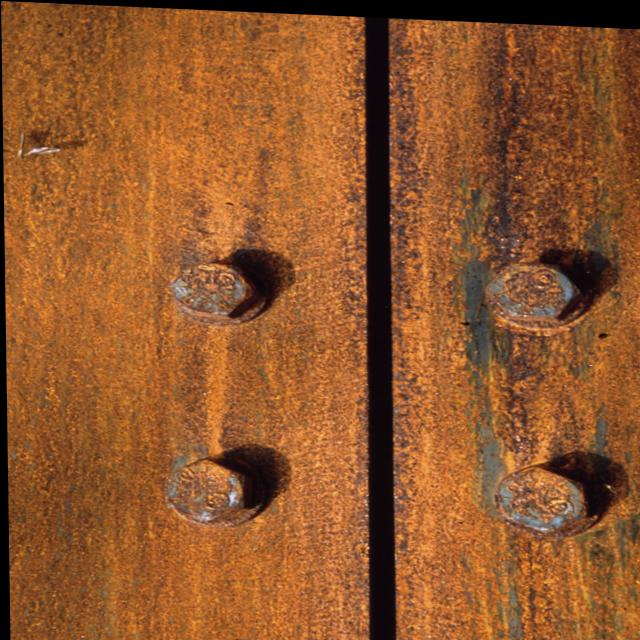Rusty bolt: (496, 461, 595, 531), (164, 454, 253, 526), (486, 254, 581, 317), (166, 257, 262, 317)
